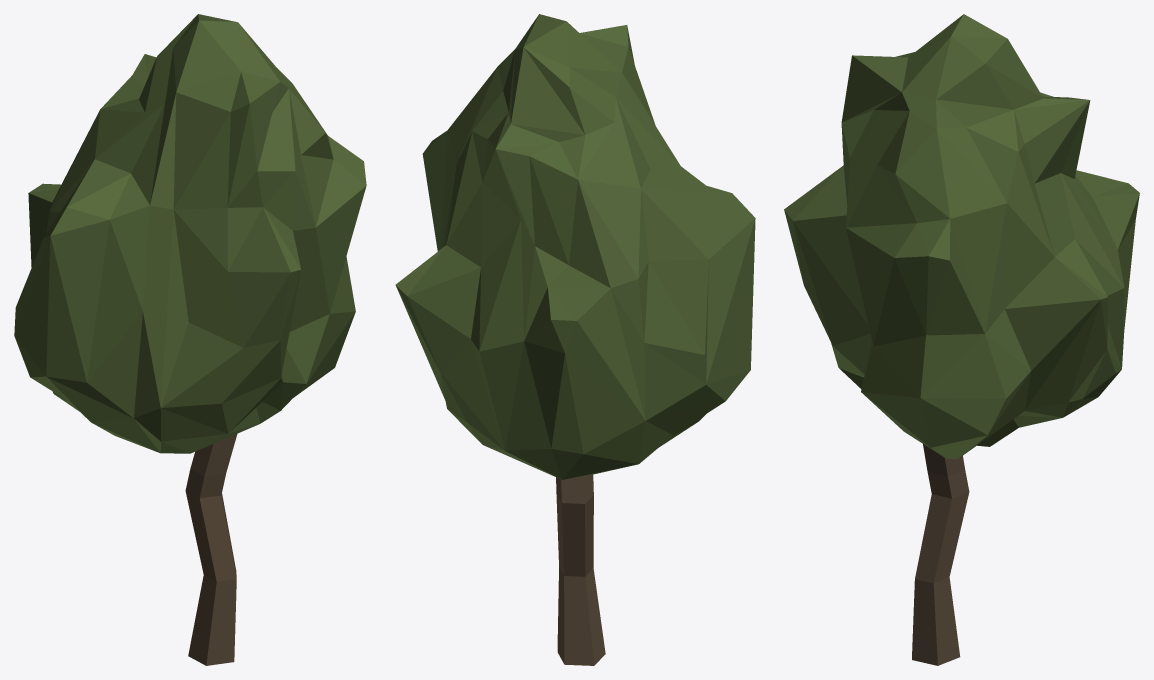
The model's file is tree_079.fbx.
3 renders of one model, left to right at view 1: azimuth 30°, elevation 25°; view 2: azimuth 150°, elevation 25°; view 3: azimuth 270°, elevation 25°, orthographic. The views are drawn at different scales.
Visible parts, largest first — view 1: tree_079; view 2: tree_079; view 3: tree_079.
Part boxes in pixels (left/top/right/bottom): tree_079: left=14, top=14, right=366, bottom=665; tree_079: left=395, top=14, right=755, bottom=665; tree_079: left=784, top=14, right=1139, bottom=665.
Size of the model in its own units: 0.7626 by 1.45 by 0.7316.
Materials: 1 (1 with a texture image).
